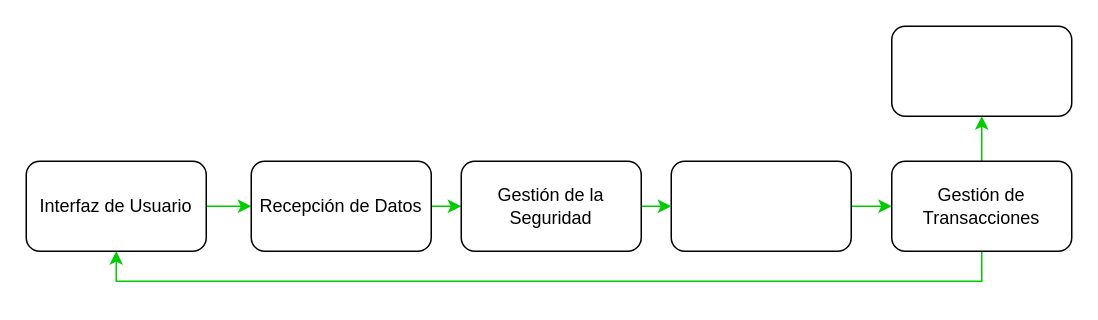
This 1098x320 diagram has some shape labels left out. Here are the shapes that lost their labels. From the top down, the box of each, then its label:
(890, 25, 1072, 116): Generación de Recibos
(670, 160, 851, 251): Comunicación con GATEWAY
